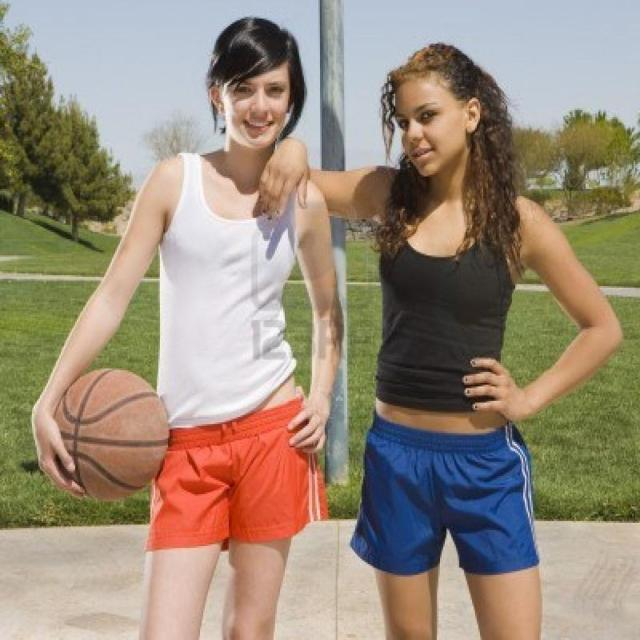Face: (206, 52, 299, 163), (388, 77, 475, 185)
